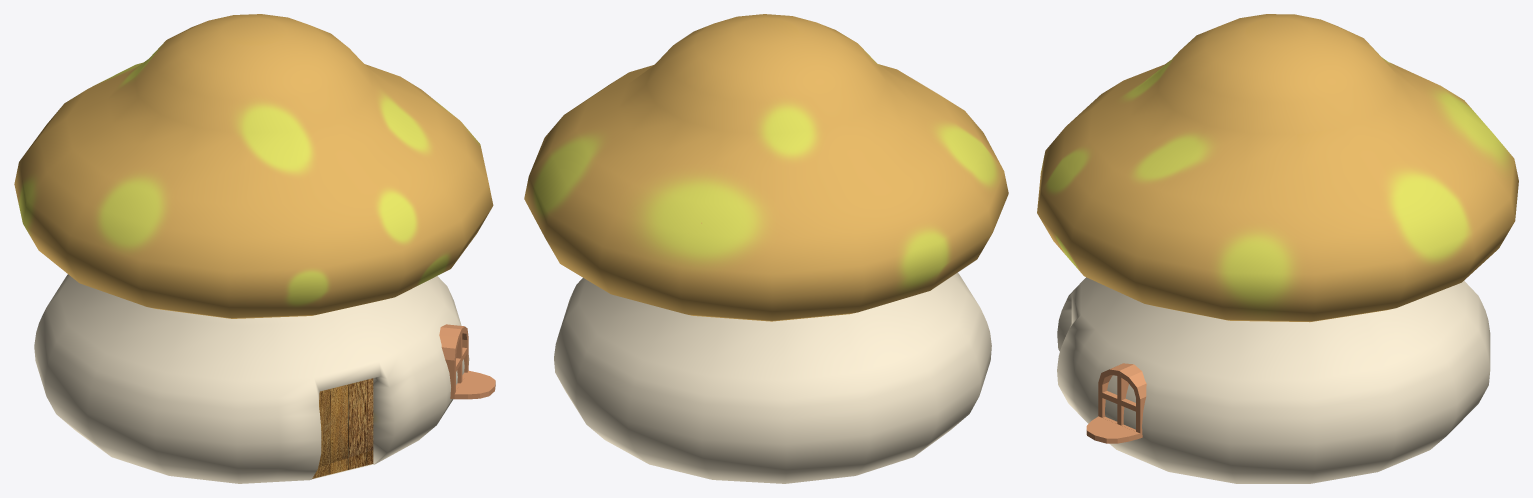
File: mushroom.glb
3 renders of one model, left to right at view 1: azimuth 30°, elevation 25°; view 2: azimuth 150°, elevation 25°; view 3: azimuth 270°, elevation 25°, orthographic.
Visible parts, largest first — view 1: Circle; view 2: Circle; view 3: Circle.
Part boxes in pixels (x1,y1,x2,y2): Circle: (14, 14, 495, 483); Circle: (524, 14, 1008, 483); Circle: (1037, 14, 1518, 483).
Bounding box in the file's own units: 2.87 × 2.47 × 2.87.
4 materials, 4 textured.
